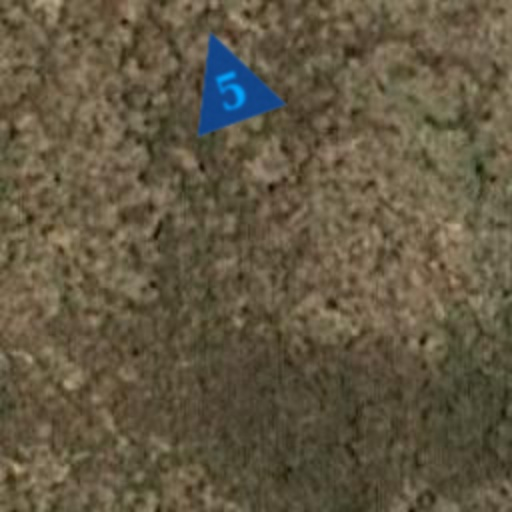triangle: (164, 14, 288, 138)
